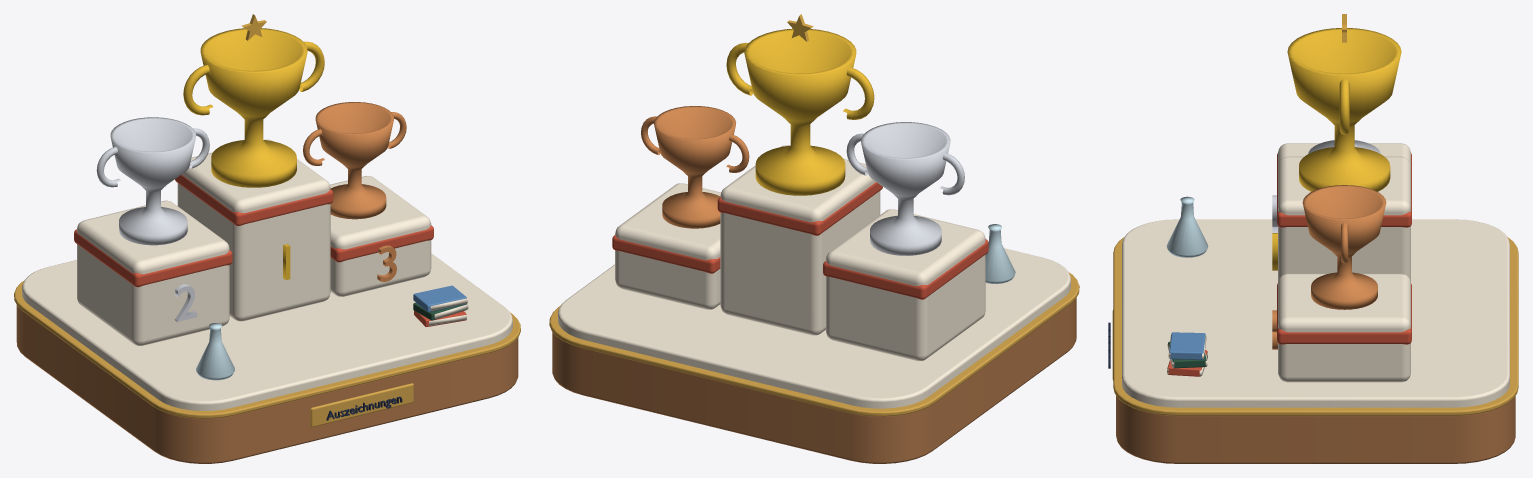
File: awards.glb
3 views of the same model, side by side, from view 1: azimuth 30°, elevation 25°; view 2: azimuth 150°, elevation 25°; view 3: azimuth 270°, elevation 25° (orthographic). The views are drawn at different scales.
Visible parts, largest first — view 1: Awards_Deck, Awards, Awards_Block1, Awards_Block2, Awards_Trophy1, Awards_Trophy2, Awards_Block3, Awards_Trophy3, Awards_Trim, Awards_Stripe2, Awards_Stripe1, Awards_Plaque (+4 smaller); view 2: Awards_Deck, Awards, Awards_Block1, Awards_Block2, Awards_Trophy1, Awards_Trophy2, Awards_Block3, Awards_Trophy3, Awards_Trim, Awards_Stripe2, Awards_Stripe1, Awards_Stripe3 (+1 smaller); view 3: Awards_Deck, Awards, Awards_Trophy1, Awards_Block3, Awards_Block1, Awards_Trophy3, Awards_Trim, Awards_Stripe3, Awards_Flask, Awards_Book2, Awards_Block2, Awards_Stripe1.
Boxes of the visible parts, x1,y1,x2,y2 form: Awards_Deck: (22, 253, 512, 410); Awards: (16, 305, 518, 463); Awards_Block1: (177, 139, 330, 321); Awards_Block2: (77, 200, 229, 345); Awards_Trophy1: (183, 28, 324, 187); Awards_Trophy2: (96, 117, 209, 245); Awards_Block3: (330, 176, 431, 296); Awards_Trophy3: (303, 102, 406, 219); Awards_Trim: (14, 281, 520, 418); Awards_Stripe2: (74, 229, 232, 287); Awards_Stripe1: (175, 174, 333, 225); Awards_Plaque: (310, 383, 413, 427); Awards_Deck: (558, 248, 1070, 408); Awards: (552, 298, 1076, 463); Awards_Block1: (720, 145, 880, 335); Awards_Block2: (826, 209, 985, 361); Awards_Trophy1: (726, 28, 874, 195); Awards_Trophy2: (846, 122, 964, 255); Awards_Block3: (615, 183, 720, 309); Awards_Trophy3: (641, 106, 749, 228); Awards_Trim: (549, 272, 1079, 416); Awards_Stripe2: (823, 239, 988, 299); Awards_Stripe1: (717, 182, 882, 235); Awards_Stripe3: (612, 235, 720, 273); Awards_Deck: (1122, 219, 1509, 407); Awards: (1116, 395, 1515, 463); Awards_Trophy1: (1287, 28, 1401, 191); Awards_Block3: (1278, 273, 1410, 382); Awards_Block1: (1278, 156, 1410, 281); Awards_Trophy3: (1302, 185, 1386, 309); Awards_Trim: (1113, 237, 1518, 415); Awards_Stripe3: (1277, 283, 1411, 344); Awards_Flask: (1166, 196, 1208, 257); Awards_Book2: (1169, 332, 1205, 359); Awards_Block2: (1278, 143, 1410, 164); Awards_Stripe1: (1277, 166, 1411, 227).
Bounding box in the file's own units: 4.66 × 4.16 × 4.31.
